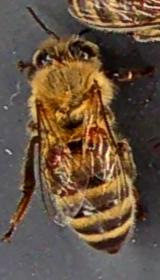varroa_mite: (78, 122, 110, 148), (44, 141, 65, 170)
